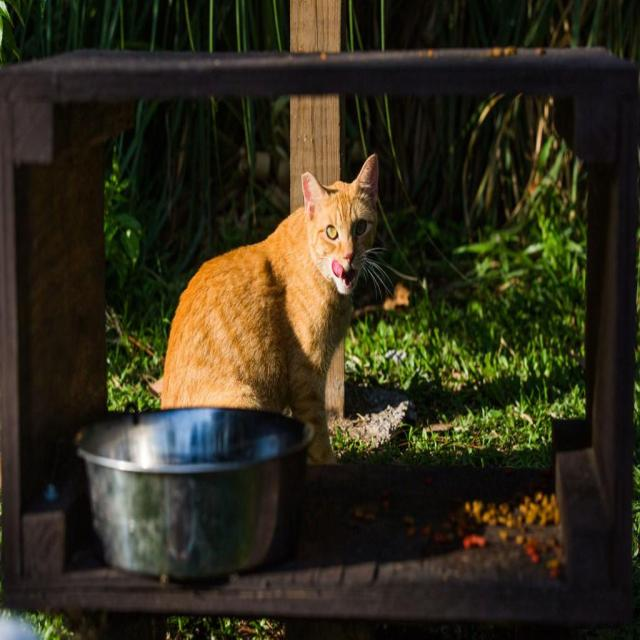cat: (161, 156, 379, 463)
